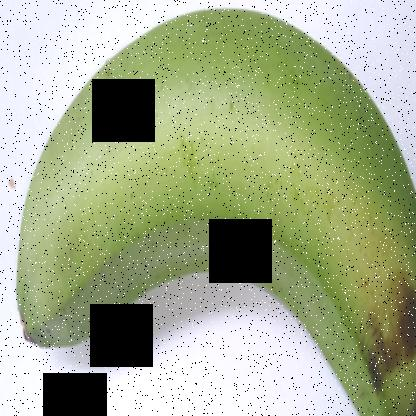freshunripe: (7, 1, 415, 415)
